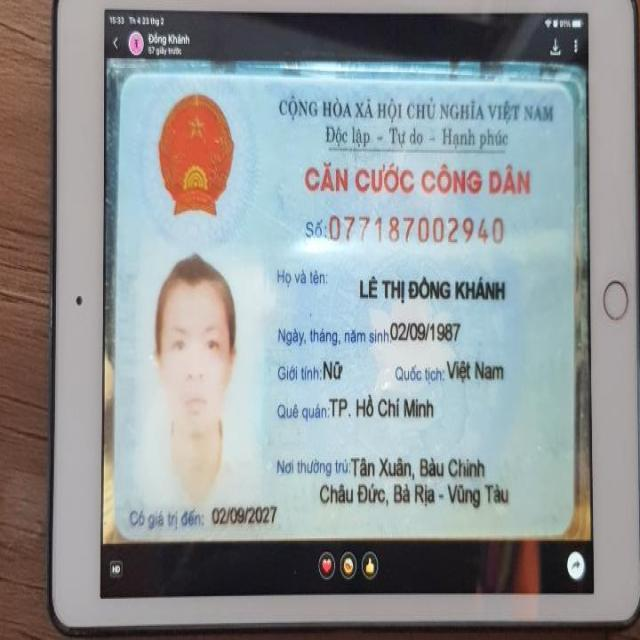bottom_left: (104, 512, 141, 554)
bottom_right: (536, 498, 584, 544)
image_person: (132, 250, 268, 498)
top_left: (98, 60, 164, 112)
top_right: (532, 69, 586, 121)
